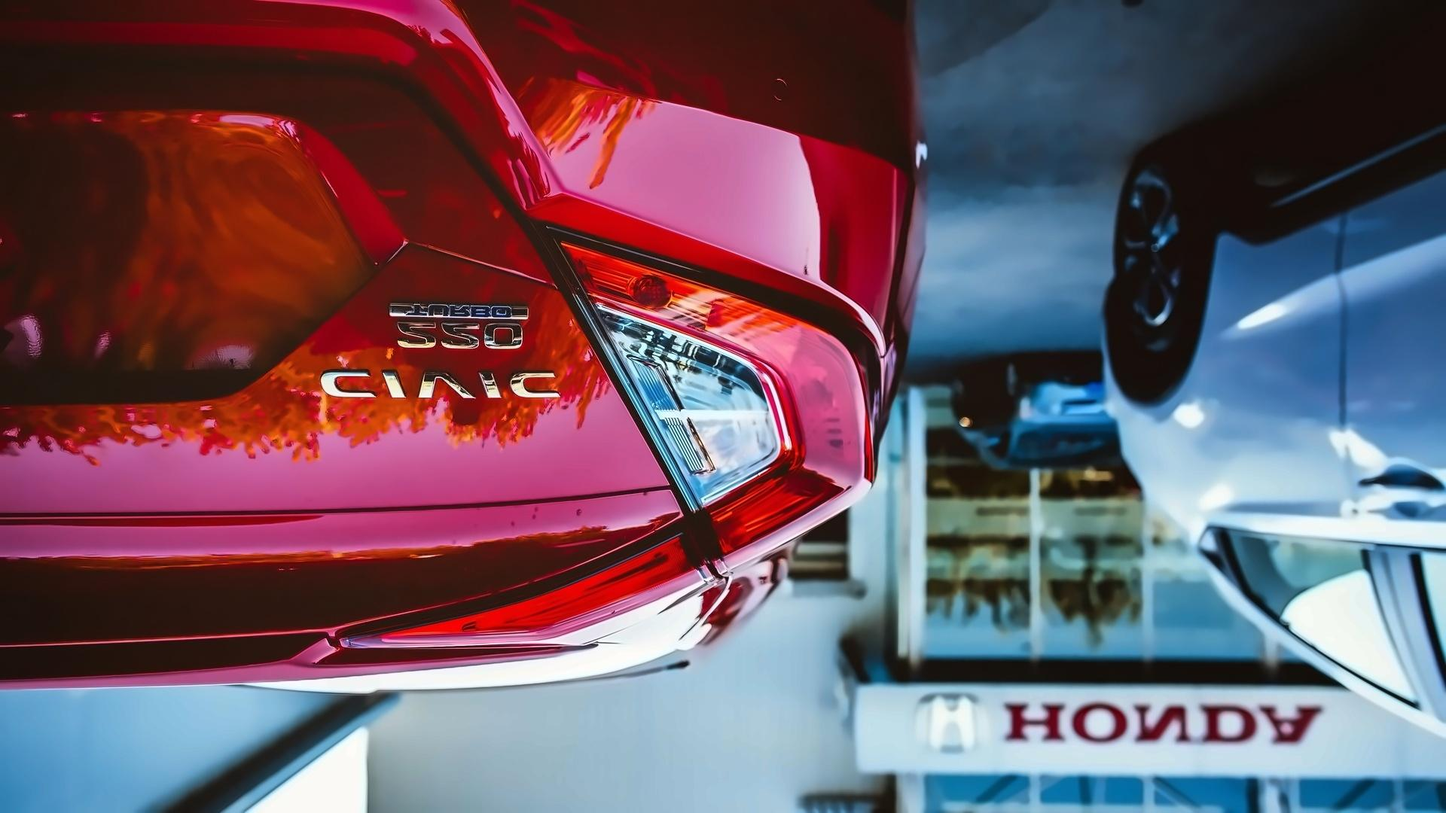Car boot: (0, 33, 695, 694)
Rear bumper: (327, 0, 952, 301)
Rear light - -L-: (322, 206, 916, 660)
